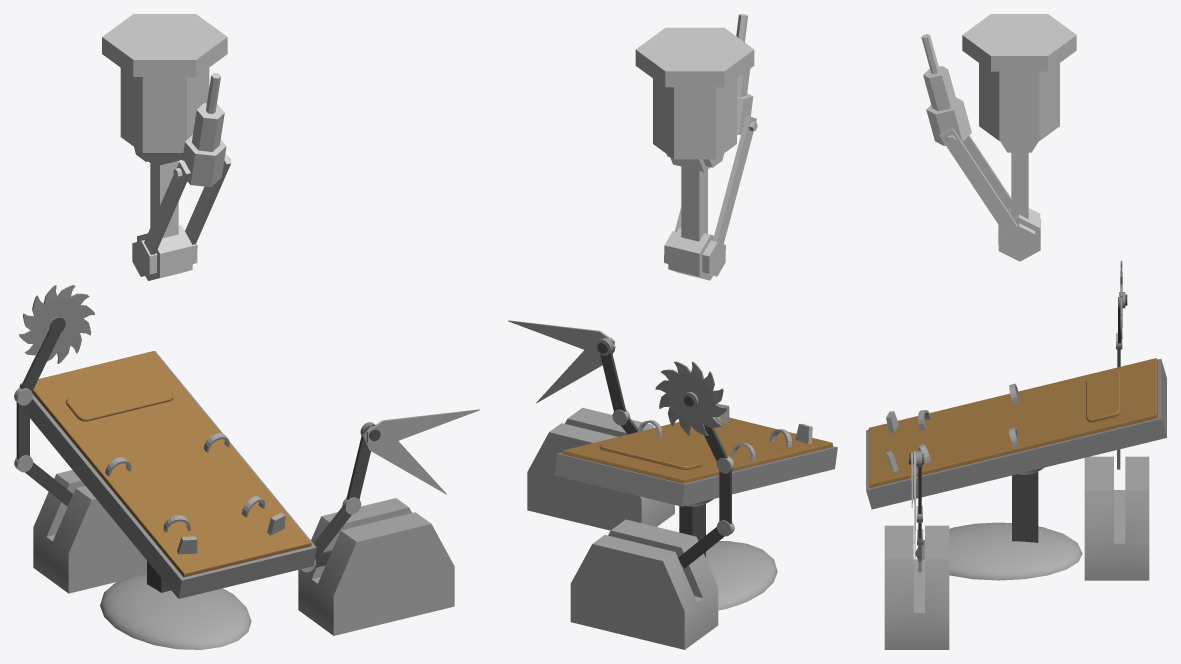
Rendered from operatingTable_buzzSaw.fbx.
3 views of the same model, side by side, from view 1: azimuth 30°, elevation 25°; view 2: azimuth 150°, elevation 25°; view 3: azimuth 270°, elevation 25° (orthographic). The views are drawn at different scales.
Visible parts, largest first — view 1: pCube1, pCube12, Base, pCube11, pSphere1, ArmUpper, polySurface1, Head, pCube2, ArmLower, pCube6 (×2), pCube10 (+3 smaller); view 2: pCube11, pCube1, Base, pCube12, ArmUpper, pSphere1, polySurface1, ArmLower, pCube10, pCube2, pCube9, Head (+4 smaller); view 3: pCube1, Base, pCube11, pCube12, pSphere1, ArmUpper, Head, pCube5, pCube2, ArmLower.
Part boxes in pixels (left/top/right/bottom): pCube1: left=19, top=351, right=316, bottom=598; pCube12: left=298, top=498, right=454, bottom=635; Base: left=102, top=14, right=227, bottom=152; pCube11: left=33, top=470, right=146, bottom=593; pSphere1: left=100, top=574, right=251, bottom=649; ArmUpper: left=132, top=153, right=231, bottom=280; polySurface1: left=19, top=285, right=94, bottom=363; Head: left=173, top=73, right=230, bottom=187; pCube2: left=65, top=377, right=173, bottom=421; ArmLower: left=134, top=147, right=183, bottom=238; pCube6 (×2): left=20, top=327, right=370, bottom=499; pCube10: left=366, top=409, right=479, bottom=446; pCube11: left=570, top=519, right=718, bottom=649; pCube1: left=554, top=417, right=837, bottom=506; Base: left=635, top=27, right=754, bottom=159; pCube12: left=527, top=407, right=674, bottom=530; ArmUpper: left=664, top=115, right=756, bottom=280; pSphere1: left=706, top=541, right=777, bottom=610; polySurface1: left=655, top=361, right=727, bottom=435; ArmLower: left=666, top=154, right=723, bottom=241; pCube10: left=508, top=320, right=614, bottom=352; pCube2: left=599, top=442, right=701, bottom=469; pCube9: left=536, top=337, right=615, bottom=402; Head: left=736, top=14, right=757, bottom=134; pCube1: left=866, top=358, right=1166, bottom=509; Base: left=962, top=14, right=1076, bottom=140; pCube11: left=1084, top=456, right=1149, bottom=580; pCube12: left=884, top=525, right=949, bottom=649; pSphere1: left=915, top=522, right=1082, bottom=580; ArmUpper: left=939, top=127, right=1040, bottom=261; Head: left=921, top=34, right=971, bottom=145; pCube5: left=1012, top=472, right=1038, bottom=542; pCube2: left=1086, top=372, right=1120, bottom=422; ArmLower: left=1000, top=141, right=1038, bottom=218.
Size of the model in its own units: 2.52 by 3.9 by 2.05.
